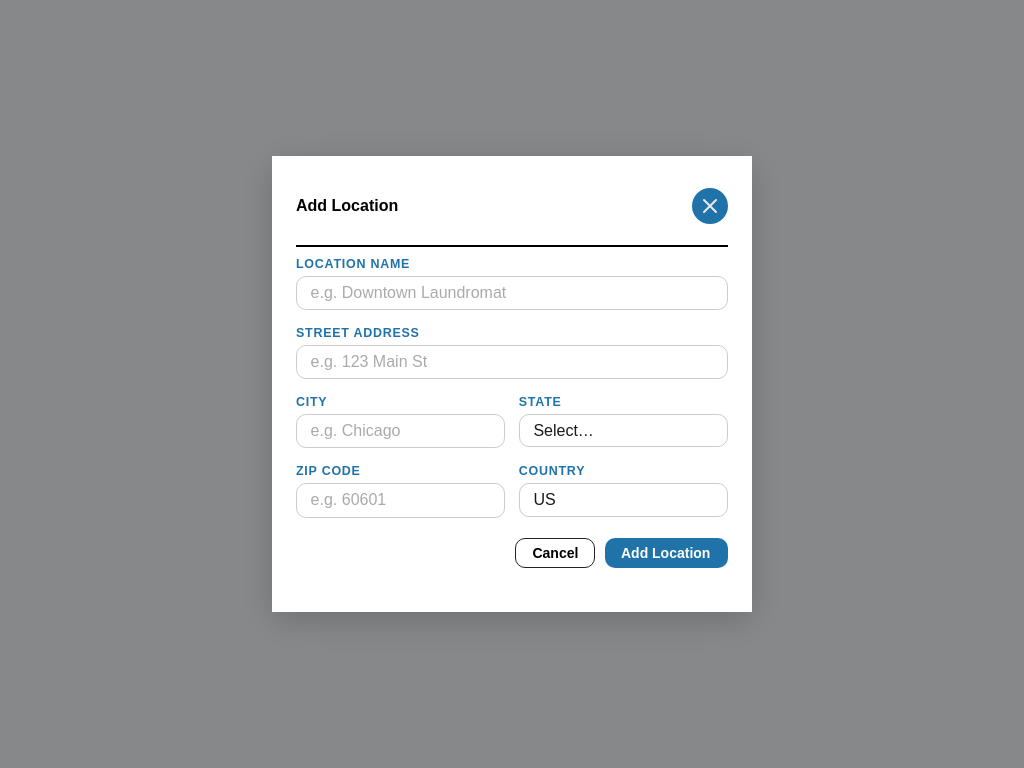
Test case: AddLocationModal › submission › shows error banner when addLocations throws
In the field labelled "Location Name": (512, 293) [296,276,728,310], type "Downtown Laundromat"
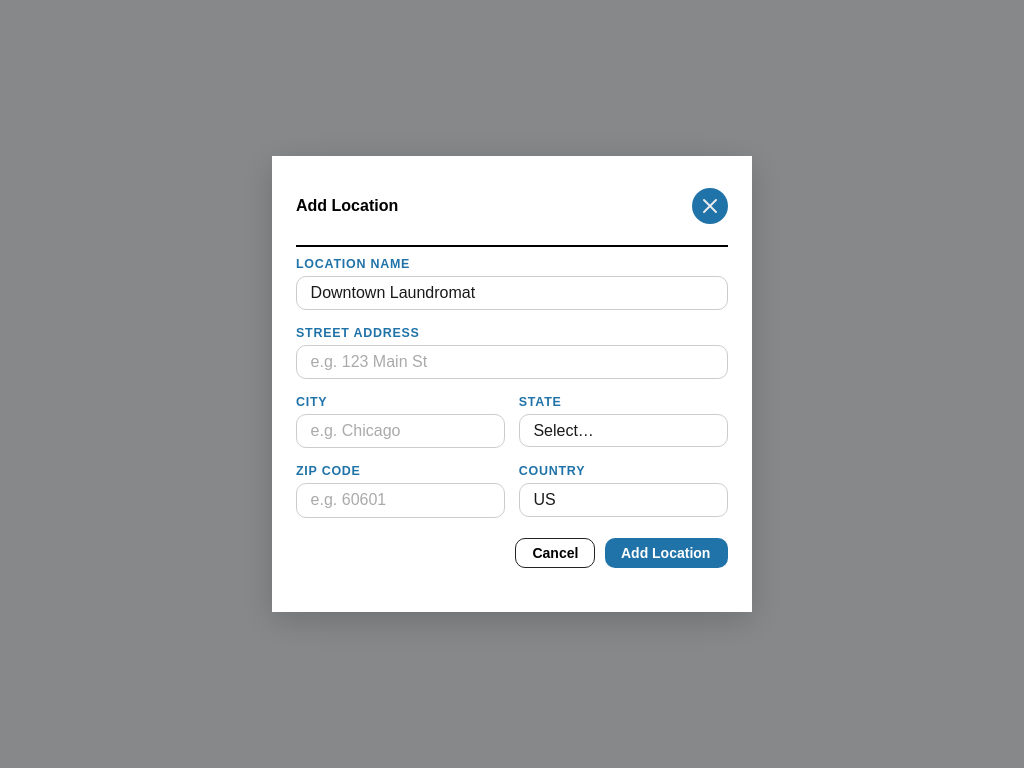
In the field labelled "Street Address": (512, 362) [296,345,728,379], type "123 Main St"
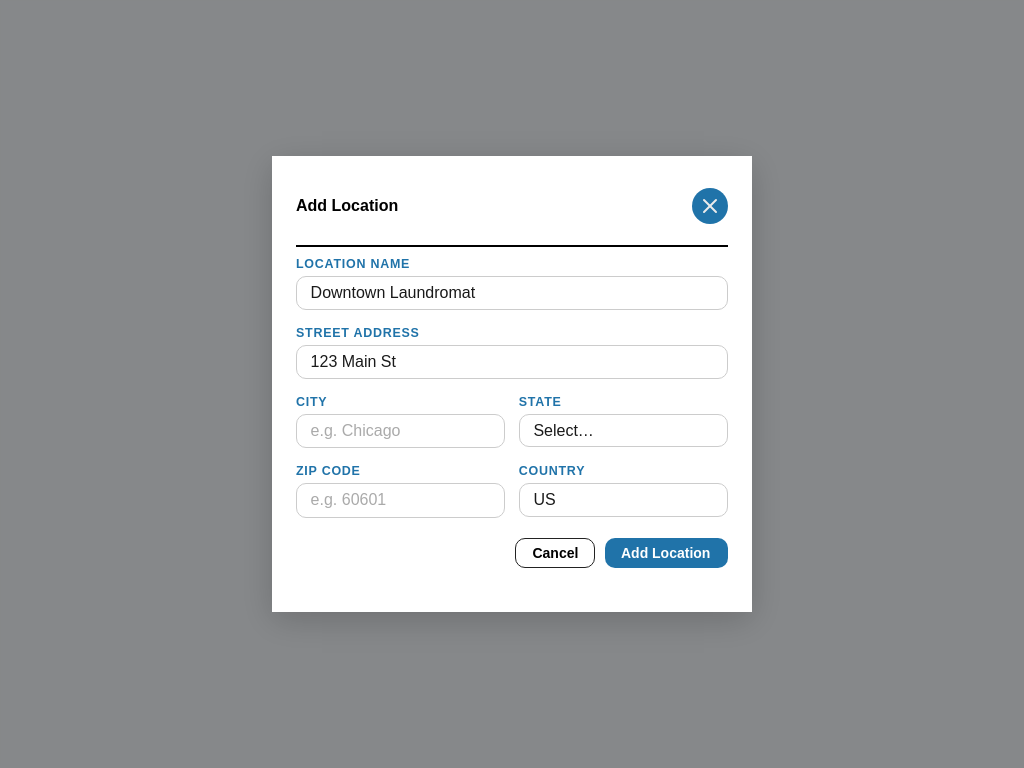
In the field labelled "City": (401, 431) [296,414,505,448], type "Indianapolis"
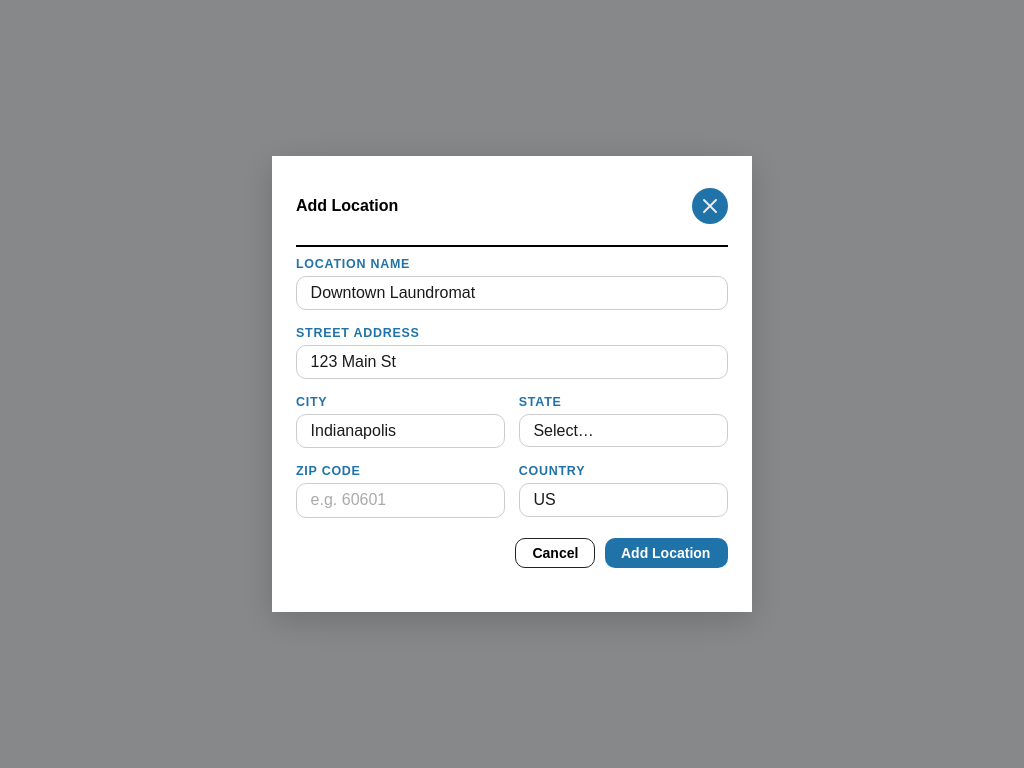
Select "IN" in the dropdown labelled "State": (623, 431) [519,414,728,447]
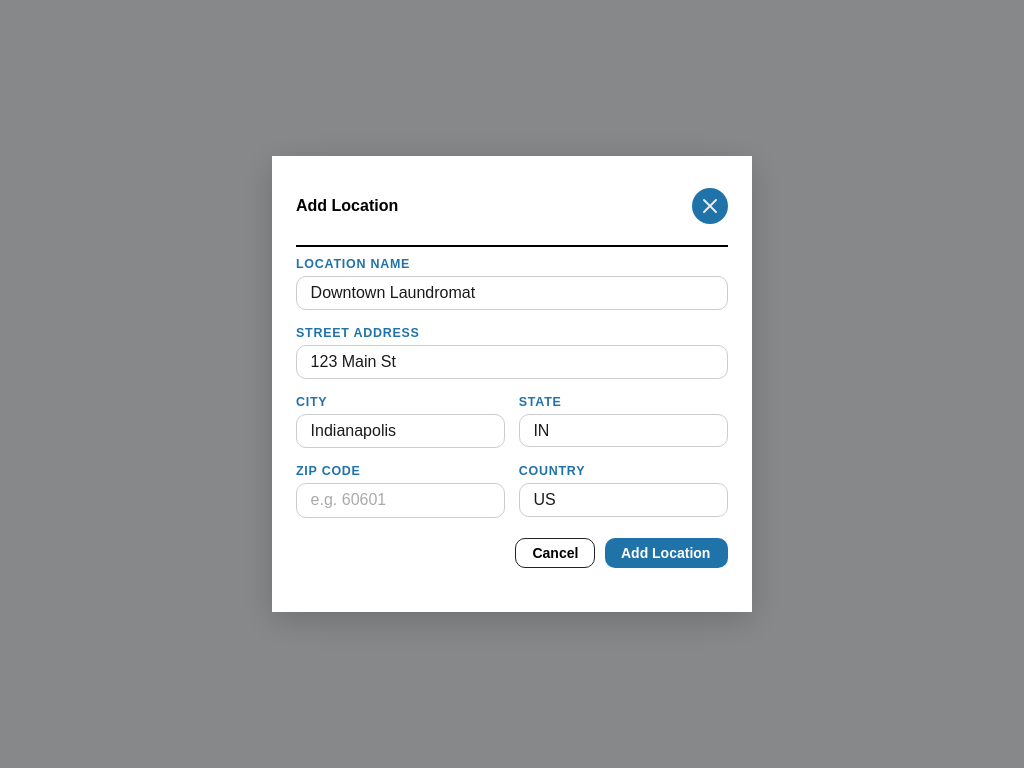
In the field labelled "ZIP Code": (401, 500) [296,483,505,518], type "46201"
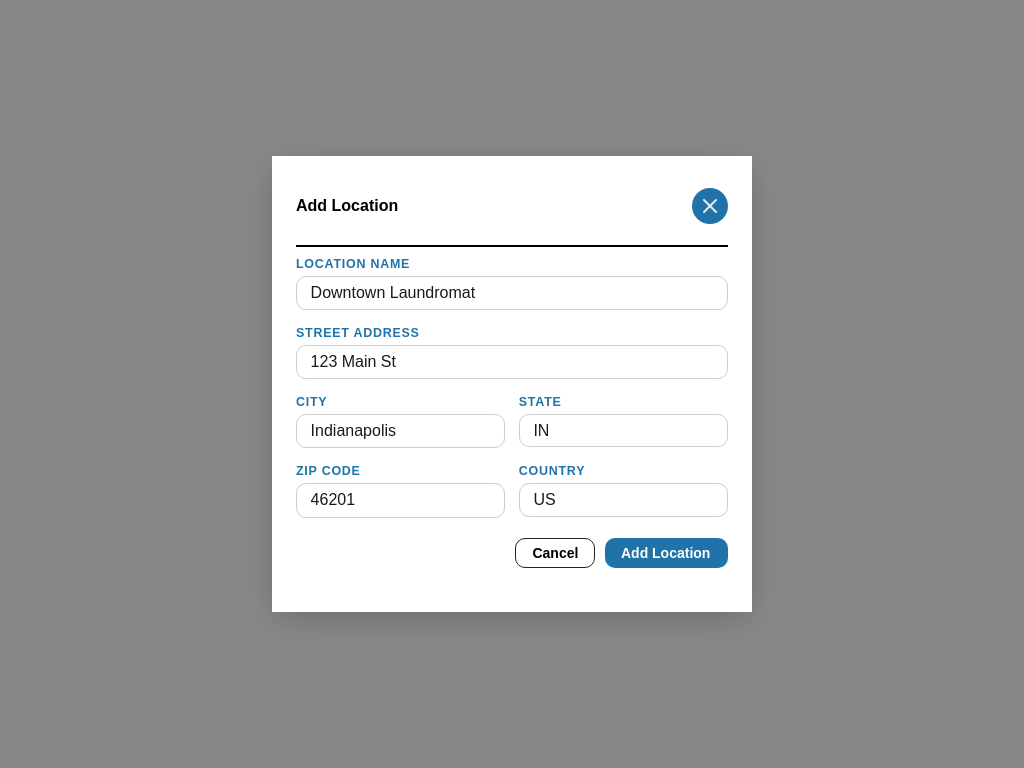
Click the button "Add Location": (666, 553) [605,538,728,568]
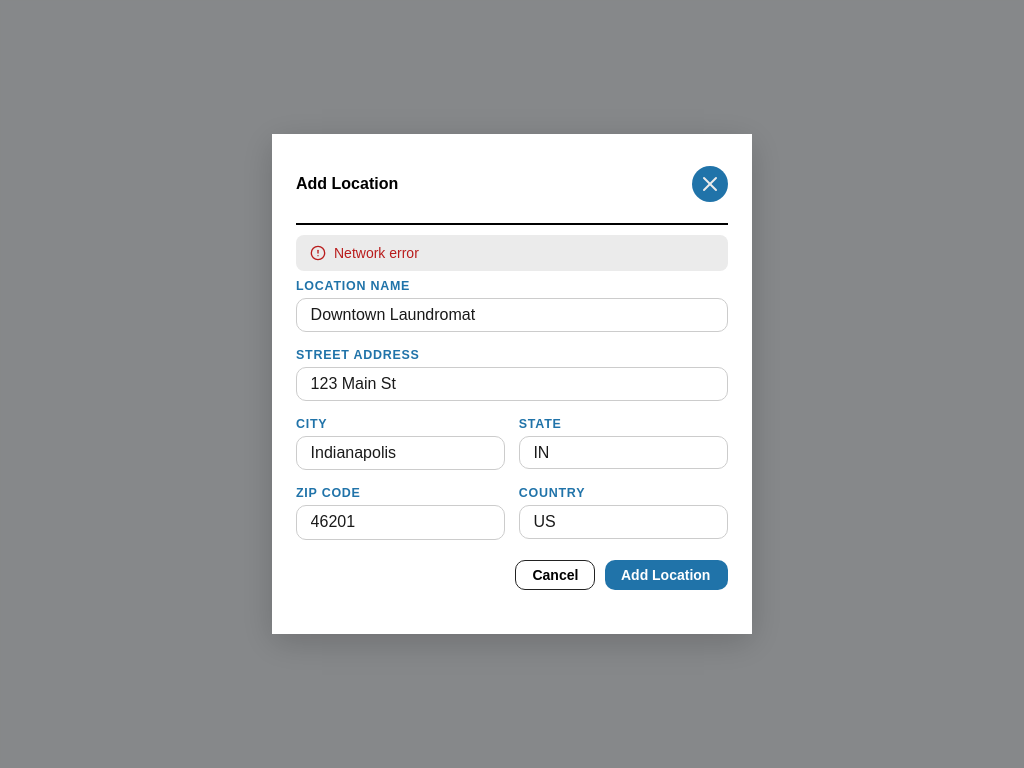
Check: the text "Network error" is shown, box [334,245,419,261]
